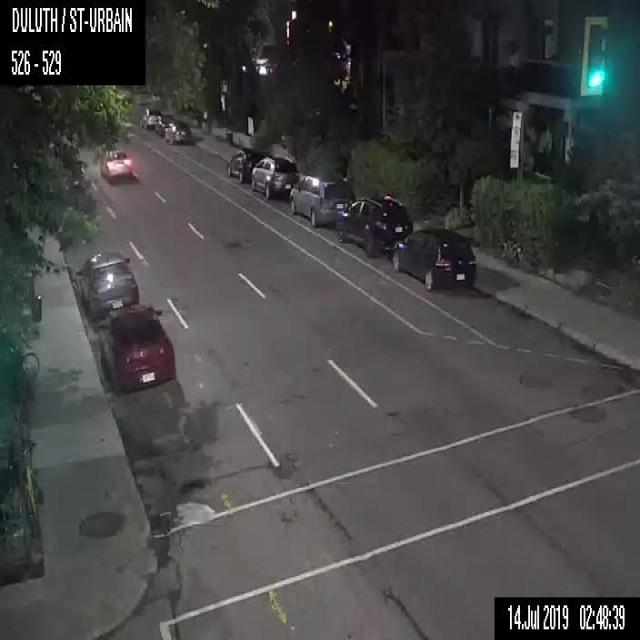vehicle: (100, 308, 176, 389), (393, 227, 479, 292), (335, 195, 413, 258), (74, 249, 140, 321), (288, 174, 356, 224), (250, 155, 300, 198), (227, 150, 268, 182), (99, 147, 134, 180), (165, 121, 189, 141), (155, 115, 177, 136), (139, 108, 162, 128)
